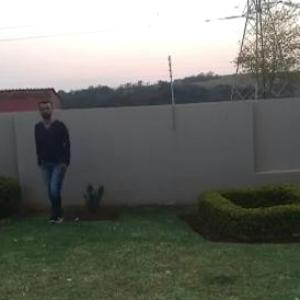follow: (35, 96, 92, 225)
